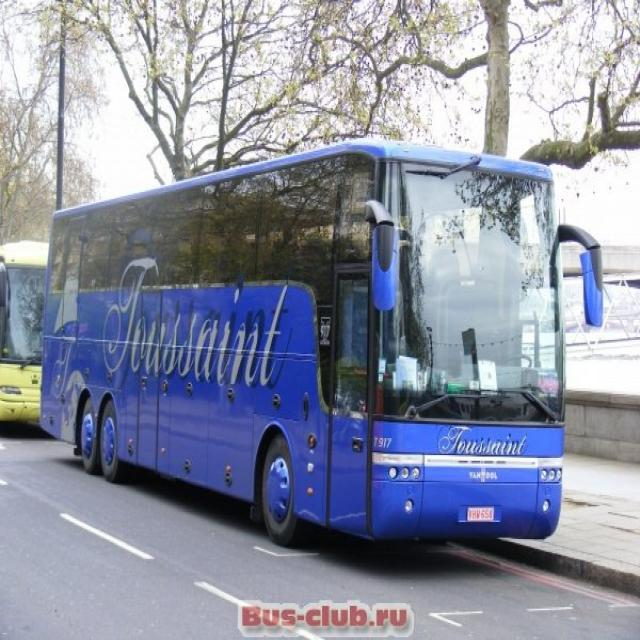bus: (32, 130, 614, 564)
